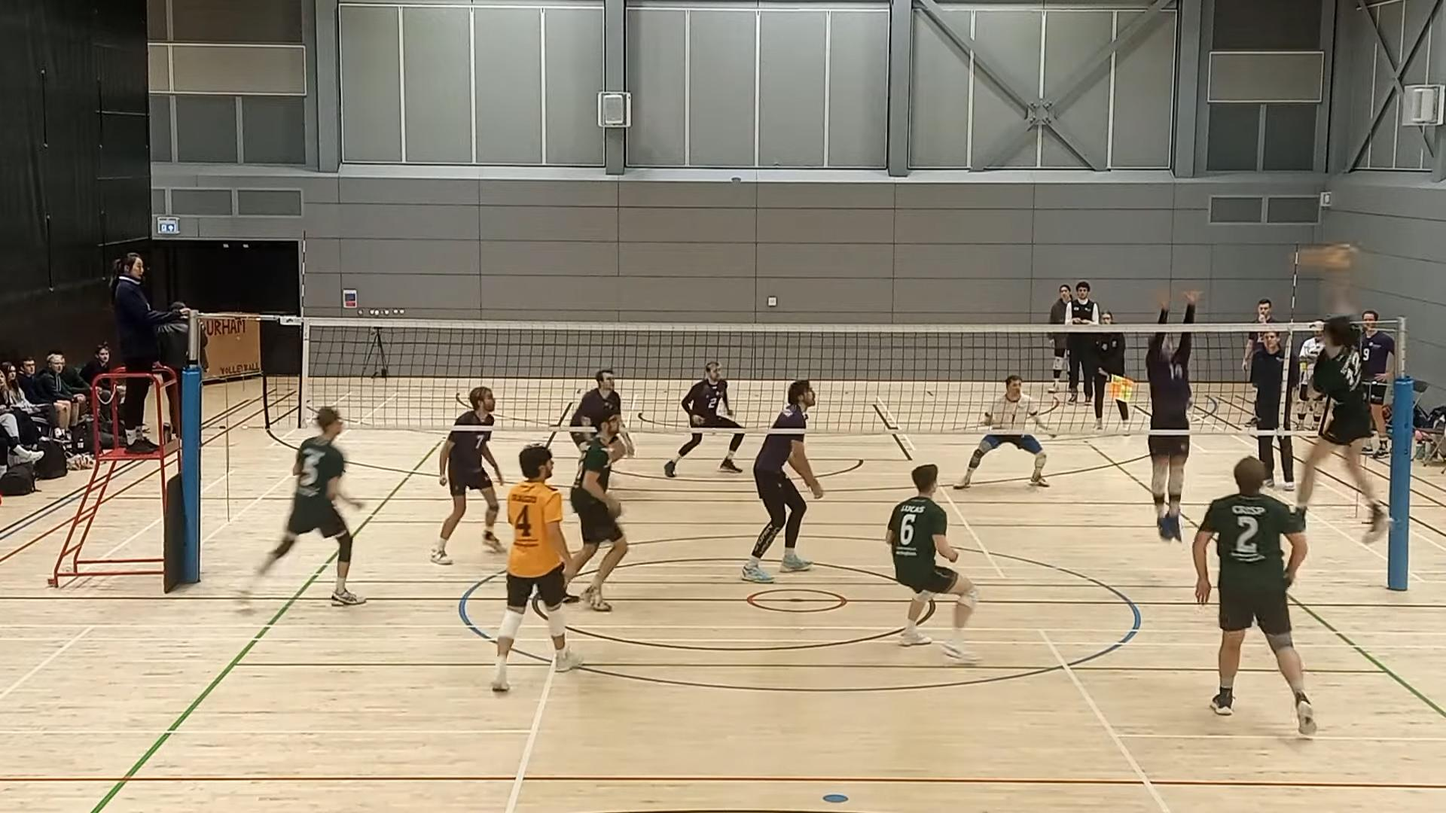Attack: (1283, 262, 1391, 549)
Block: (1149, 281, 1196, 547)
Player: (1193, 458, 1316, 735), (491, 446, 581, 691), (255, 407, 365, 605), (886, 464, 977, 664), (741, 380, 823, 583), (431, 386, 505, 565), (570, 413, 627, 611), (954, 375, 1052, 489), (680, 361, 740, 428), (569, 369, 621, 428)
